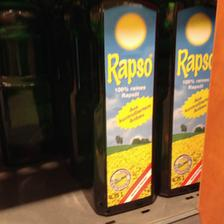Oel: (76, 2, 158, 216), (152, 0, 216, 196)
